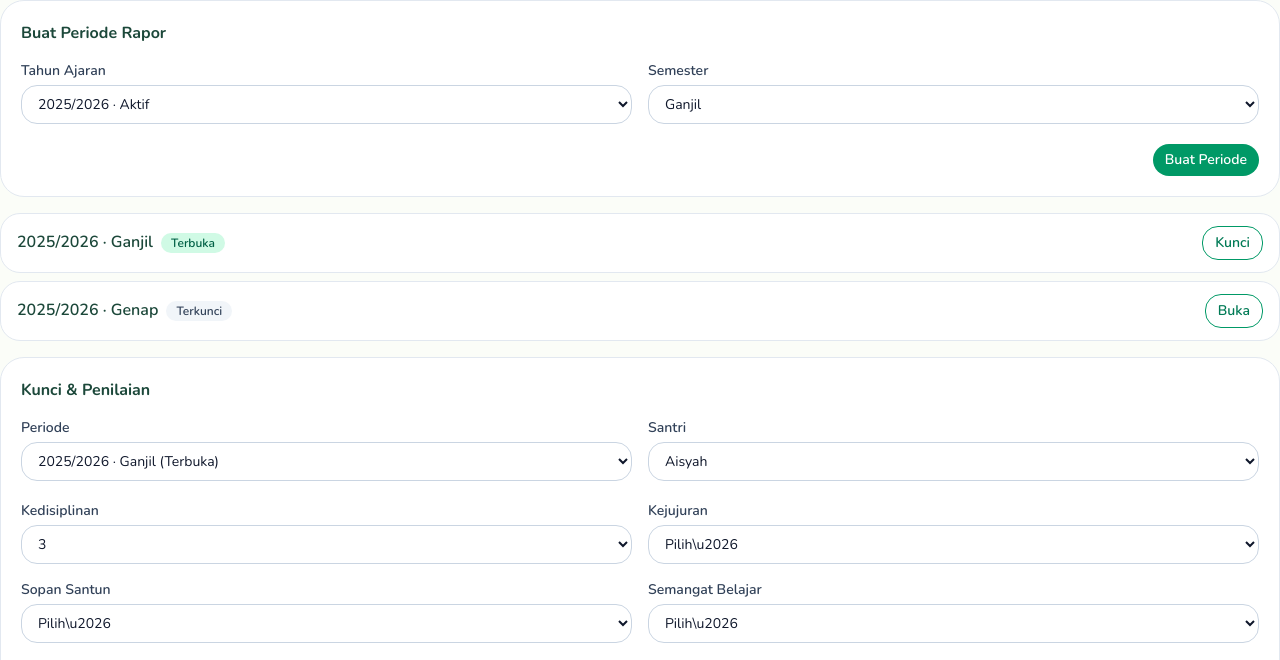
Test: RaporBuilder › rapid adab changes: a stale in-flight failure cannot overwrite the latest selection
This screenshot has width=1280, height=660.
Step 1. Select "4" in the dropdown labelled "Kedisiplinan" → (326, 544), box top-left (21, 525), bottom-right (632, 564)
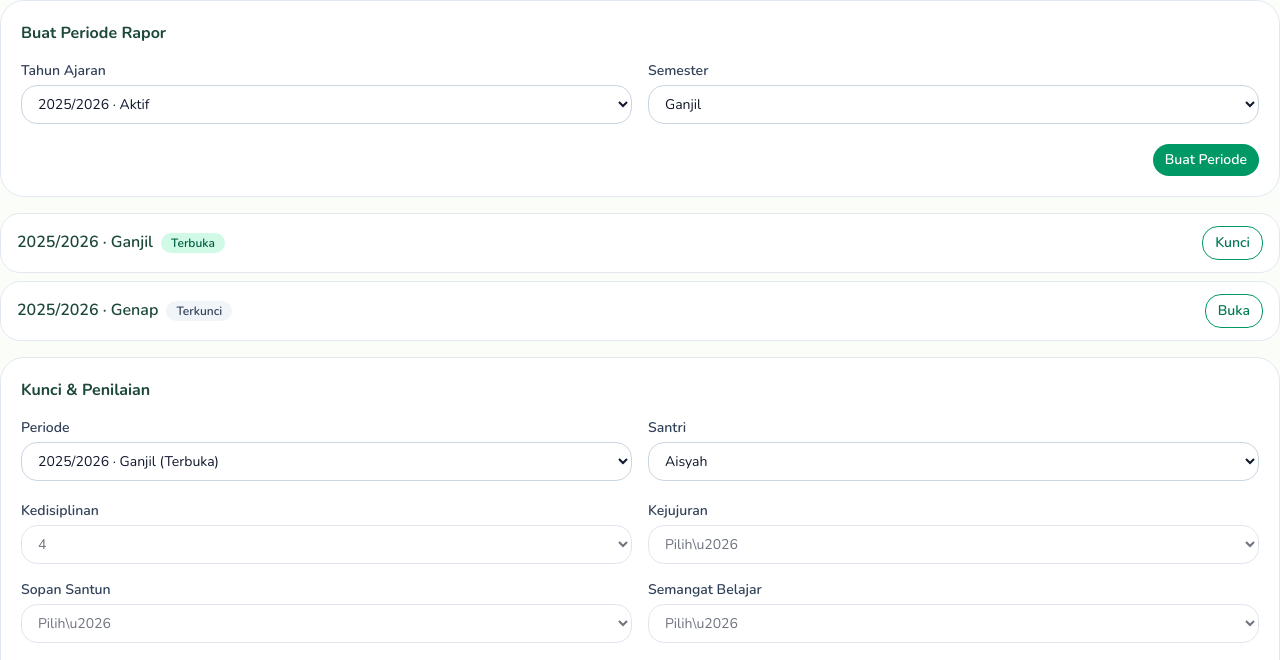
Step 2. Select "2" in the dropdown labelled "Kedisiplinan" → (326, 544), box top-left (21, 525), bottom-right (632, 564)
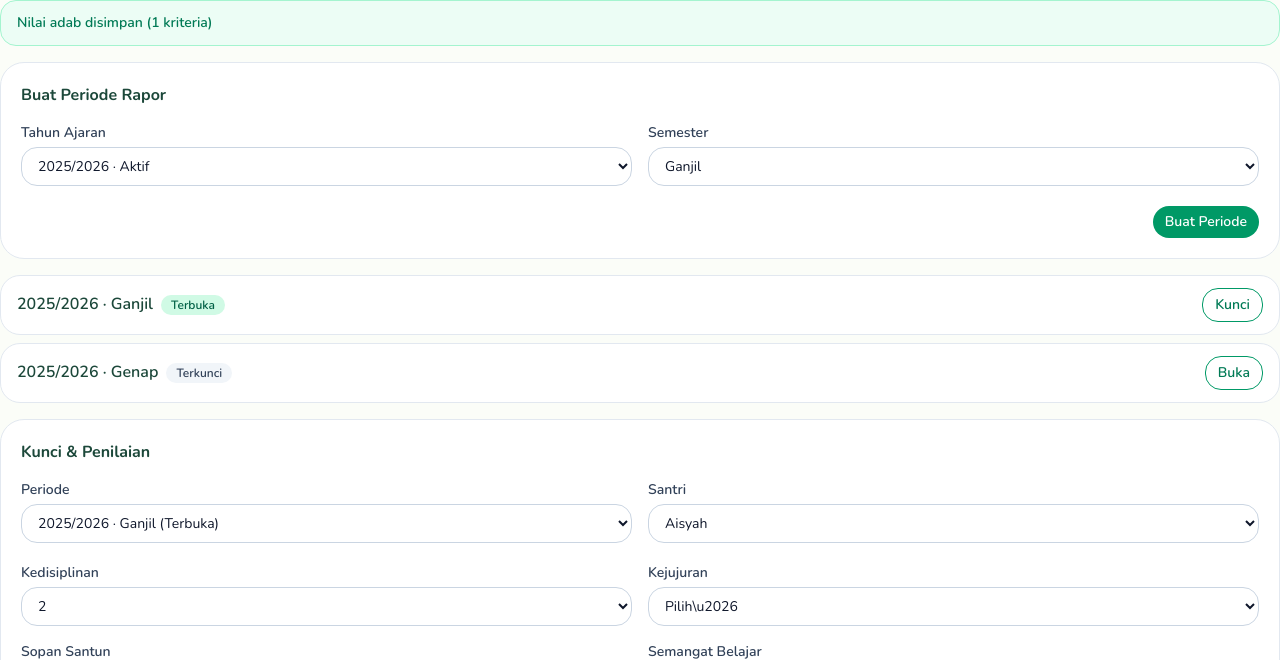
Now the text "Nilai adab disimpan (1 kriteria)" is shown, box top-left (0, 0), bottom-right (1279, 46)
